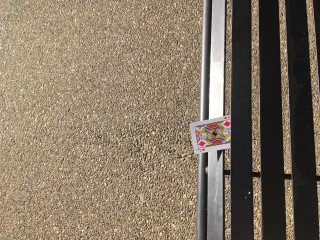JackOfDiamonds: (190, 115, 231, 154)
